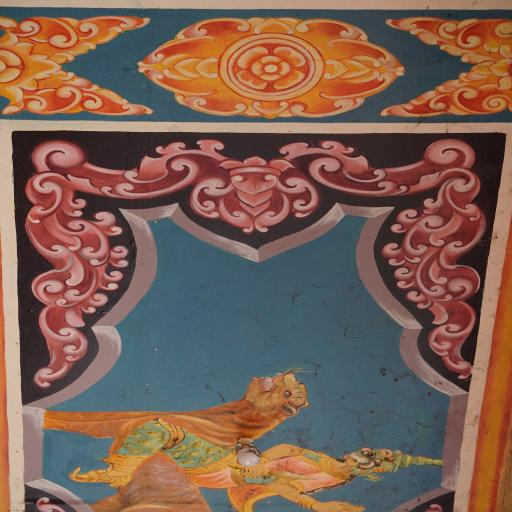hoa: (132, 10, 416, 129), (0, 11, 159, 119), (377, 12, 512, 122)
la: (100, 134, 416, 240), (12, 133, 127, 396), (381, 140, 488, 393)
than: (70, 400, 456, 512)
